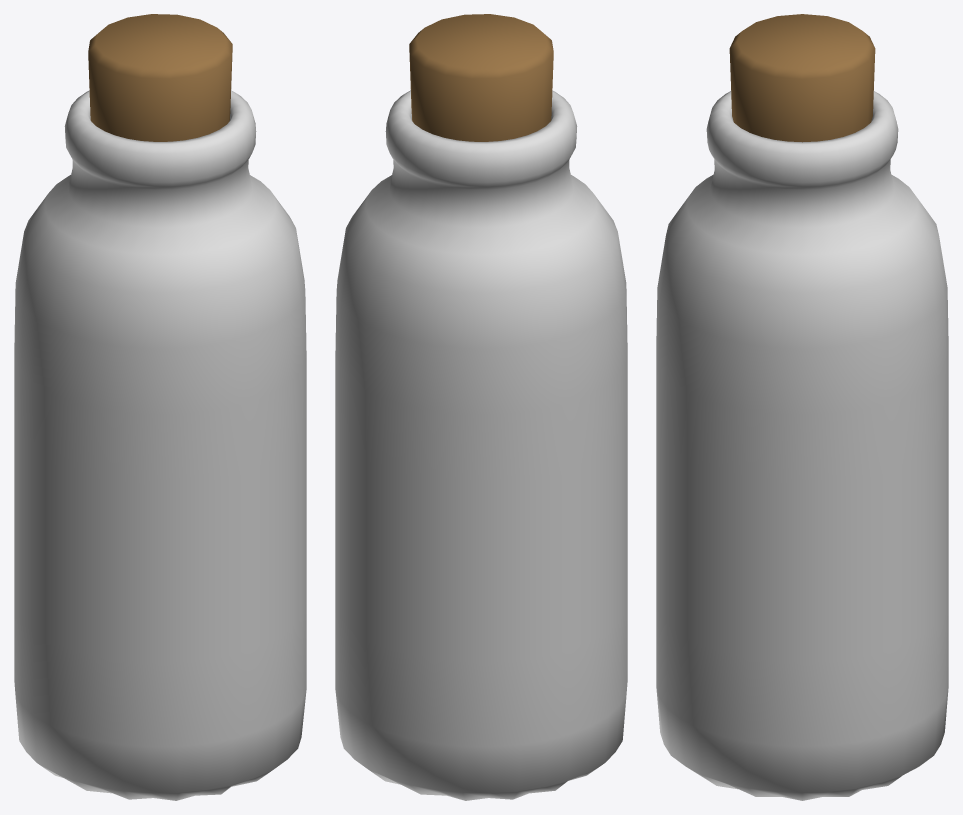
Rendered from Small.glb.
3 renders of one model, left to right at view 1: azimuth 30°, elevation 25°; view 2: azimuth 150°, elevation 25°; view 3: azimuth 270°, elevation 25°, orthographic.
Visible parts, largest first — view 1: SmallBottle, SmallFixins; view 2: SmallBottle, SmallFixins; view 3: SmallBottle, SmallFixins.
Part boxes in pixels (x1,y1,x2,y2): SmallBottle: (14, 90, 306, 800); SmallFixins: (88, 14, 232, 141); SmallBottle: (335, 90, 627, 800); SmallFixins: (409, 14, 553, 141); SmallBottle: (656, 91, 948, 800); SmallFixins: (729, 14, 875, 142).
Size of the model in its own units: 1.95 by 5.28 by 1.95.
